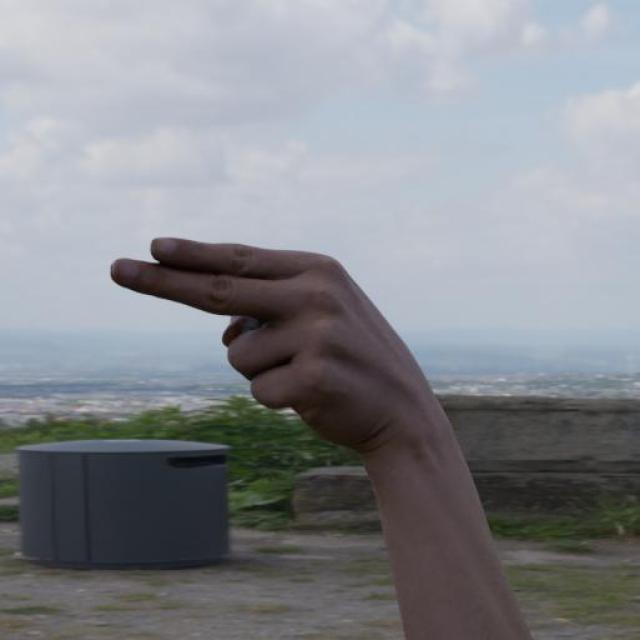H: (109, 235, 446, 447)
